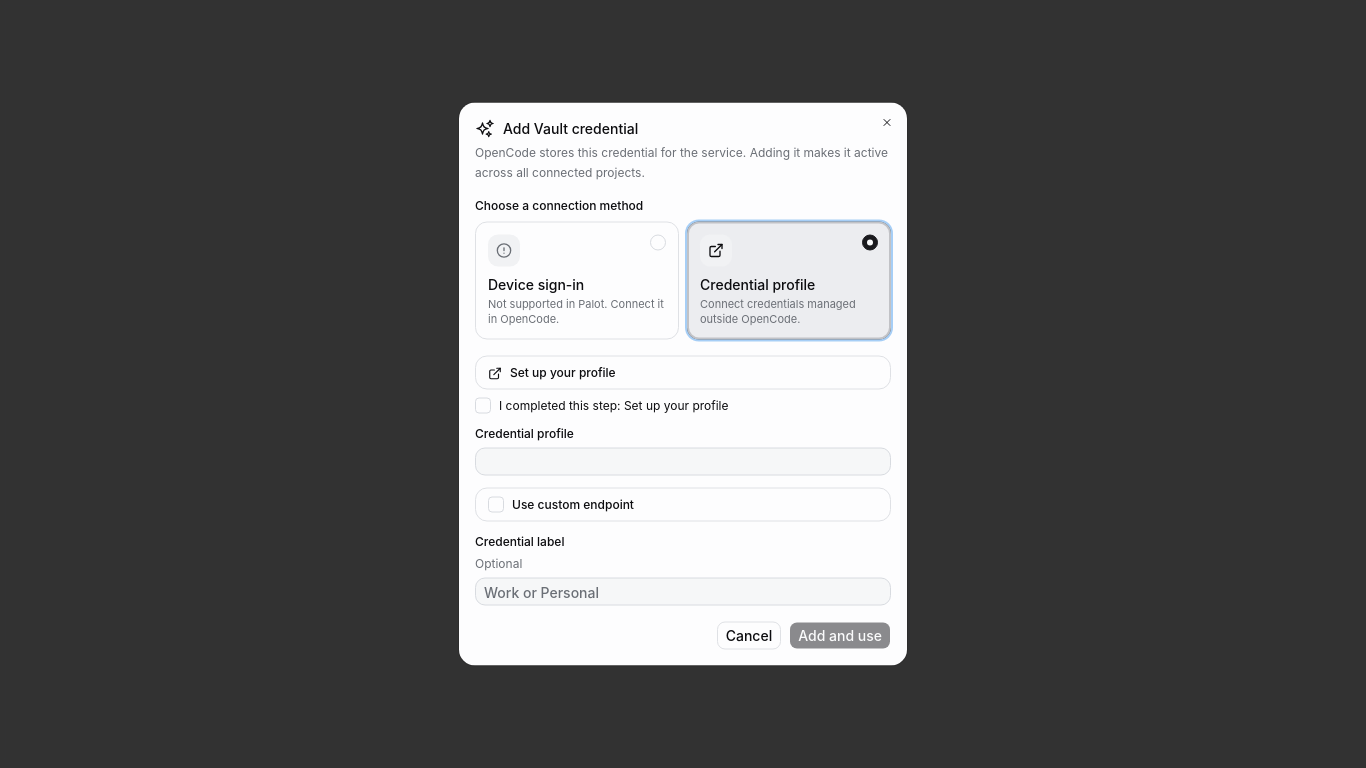
Test: external provider connection dialog › prefers a supported method but lets users inspect an unsupported alternative
Expected: the field labelled "Credential profile" is shown, [475,448,891,476]
Click the radio button labelled "Device sign-in" at (577, 280), box [475,222,679,340]
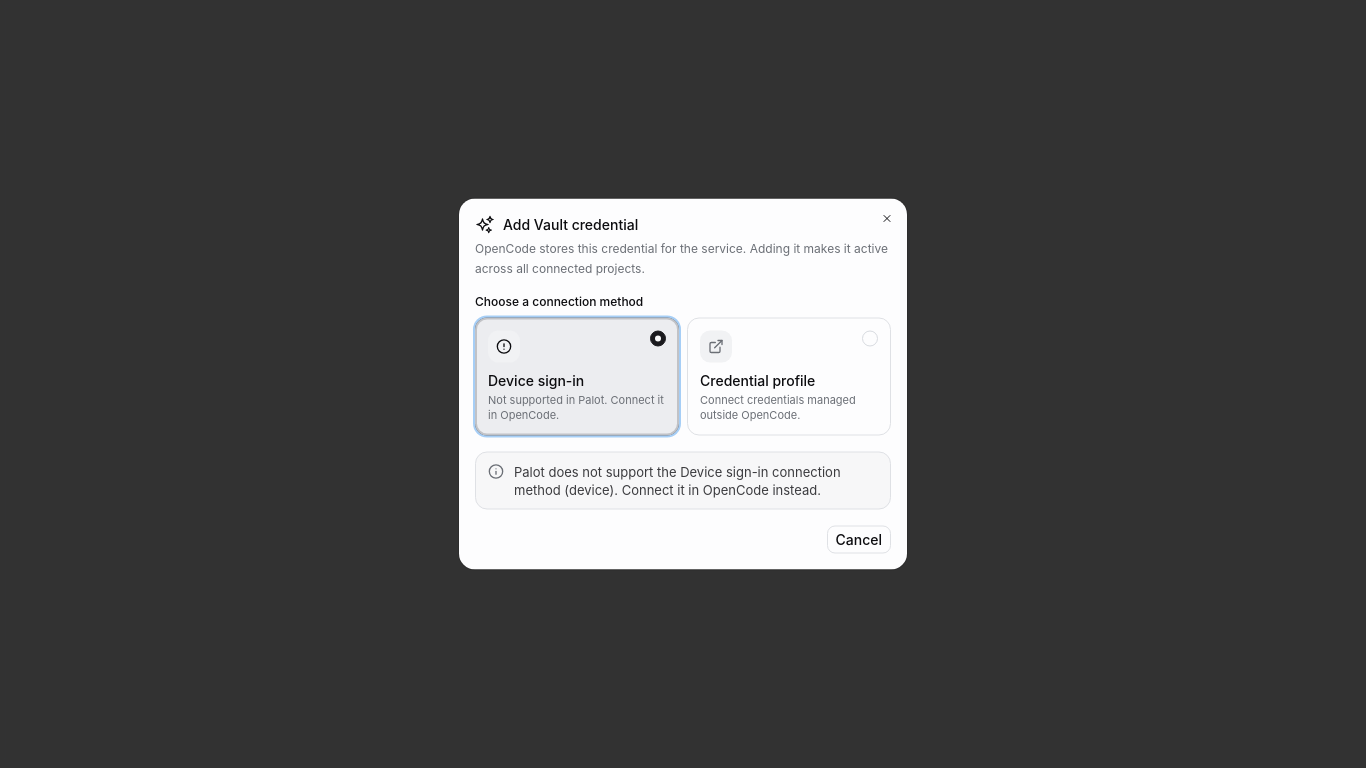
Result: the message shows "Connect it in OpenCode instead." at [610,482,821,498]
Result: the button "Add and use" is gone
